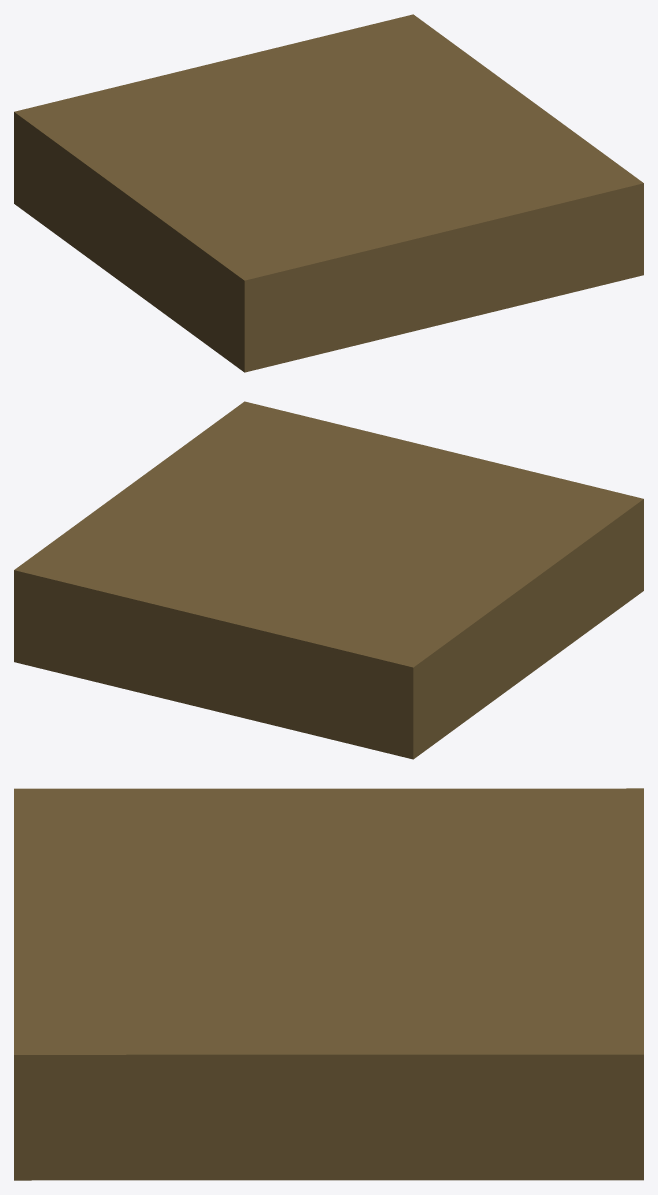
Rendered from Tutup.fbx.
3 views of the same model, one above another, from view 1: azimuth 30°, elevation 25°; view 2: azimuth 150°, elevation 25°; view 3: azimuth 270°, elevation 25° (orthographic). The views are drawn at different scales.
Visible parts, largest first — view 1: Cube.002; view 2: Cube.002; view 3: Cube.002.
Boxes of the visible parts, <box> form: Cube.002: <box>14,14,643,372</box>; Cube.002: <box>14,401,643,759</box>; Cube.002: <box>14,788,643,1180</box>.
Size of the model in its own units: 190 by 41.87 by 190.
